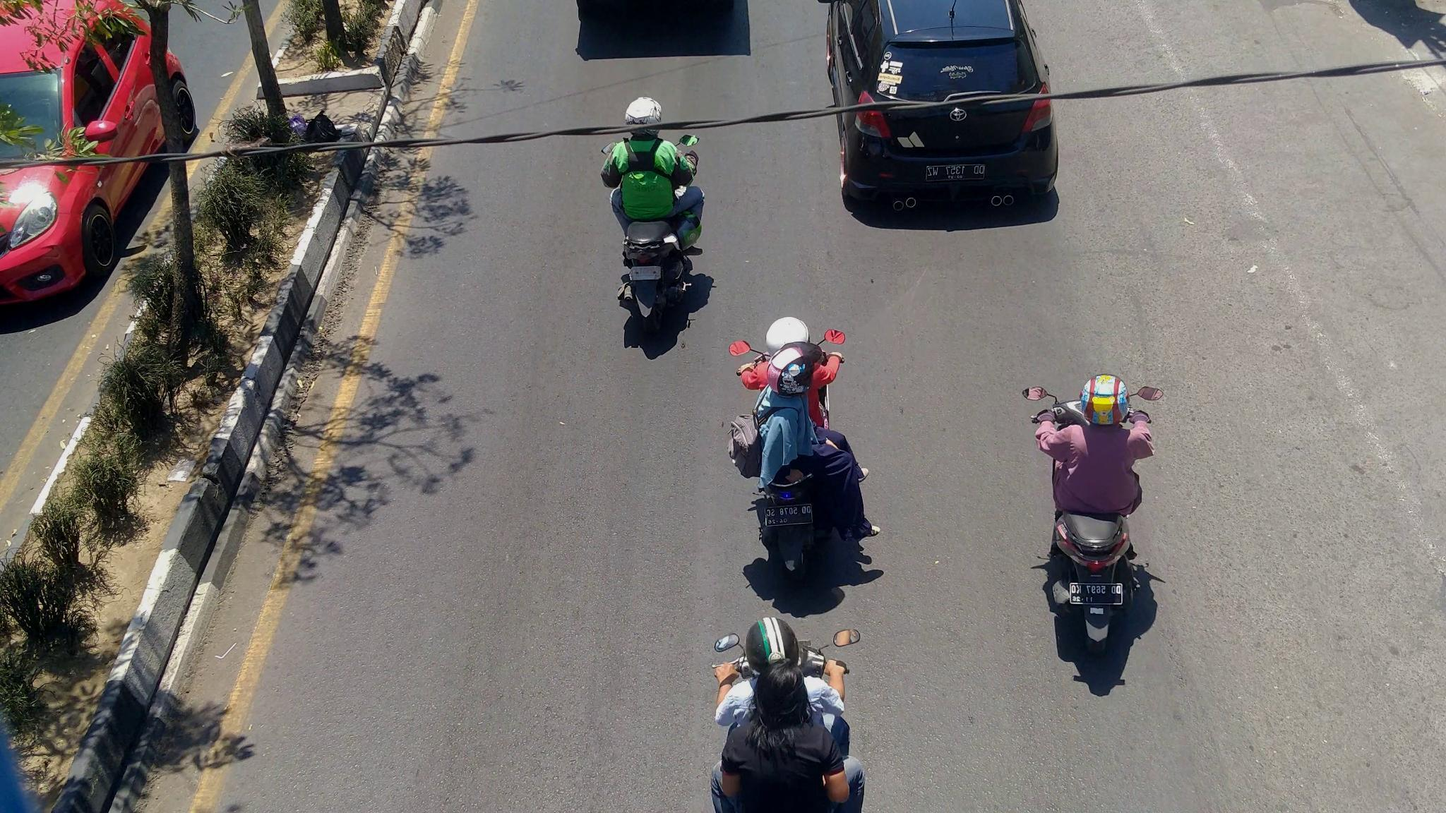Helmet: (760, 332, 828, 404), (739, 610, 806, 680), (1076, 372, 1133, 432), (615, 92, 673, 142), (758, 311, 812, 360)
bike: (1016, 379, 1163, 665), (724, 322, 851, 592), (600, 125, 703, 331)
no-helmet: (744, 659, 818, 751)
number-plate: (1066, 577, 1127, 610), (764, 500, 814, 527)
rider: (740, 330, 885, 547), (717, 663, 855, 813), (1032, 369, 1158, 522), (600, 92, 710, 246)
